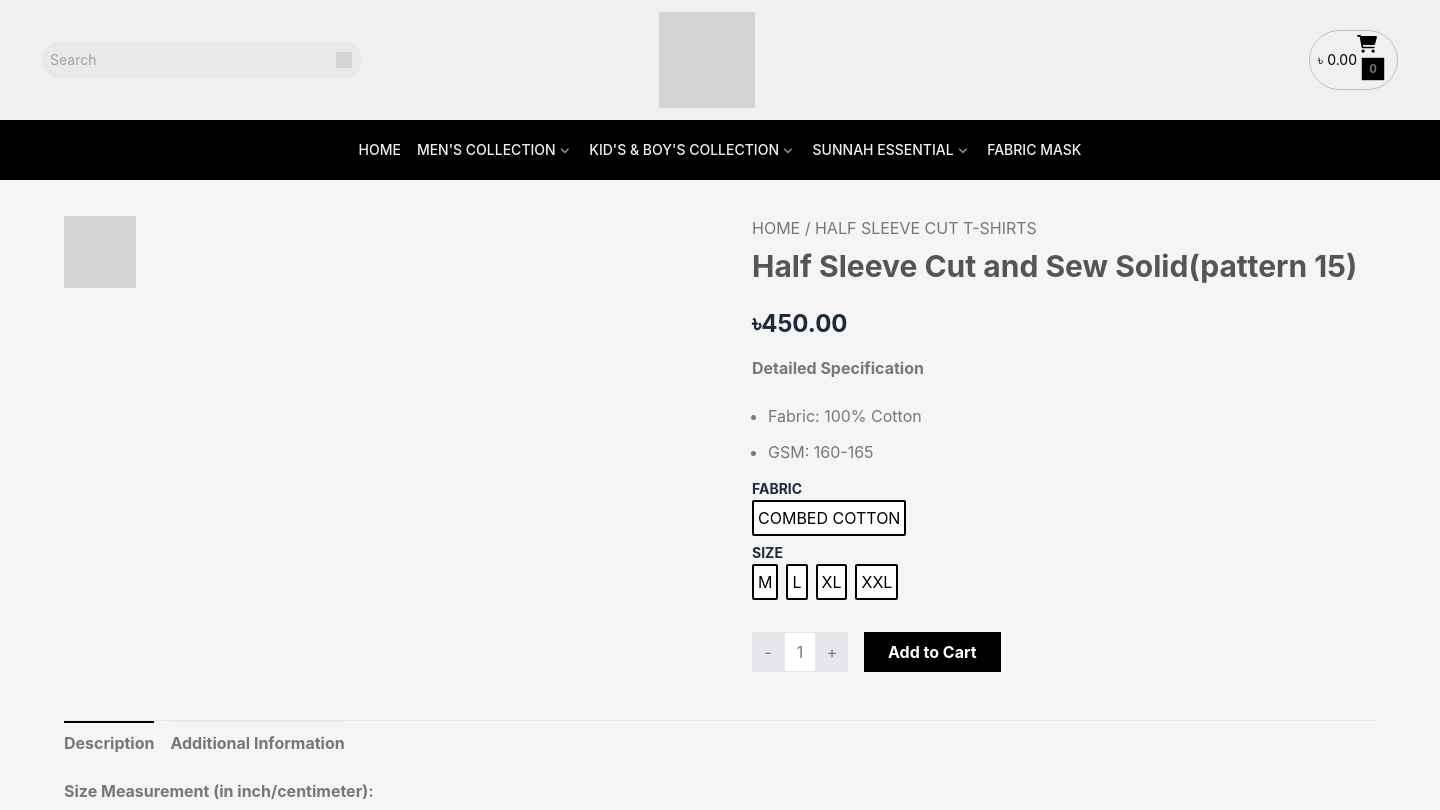
item counter › increment and decrement
Click the button "+".
click(832, 652)  # box [816, 632, 848, 672]
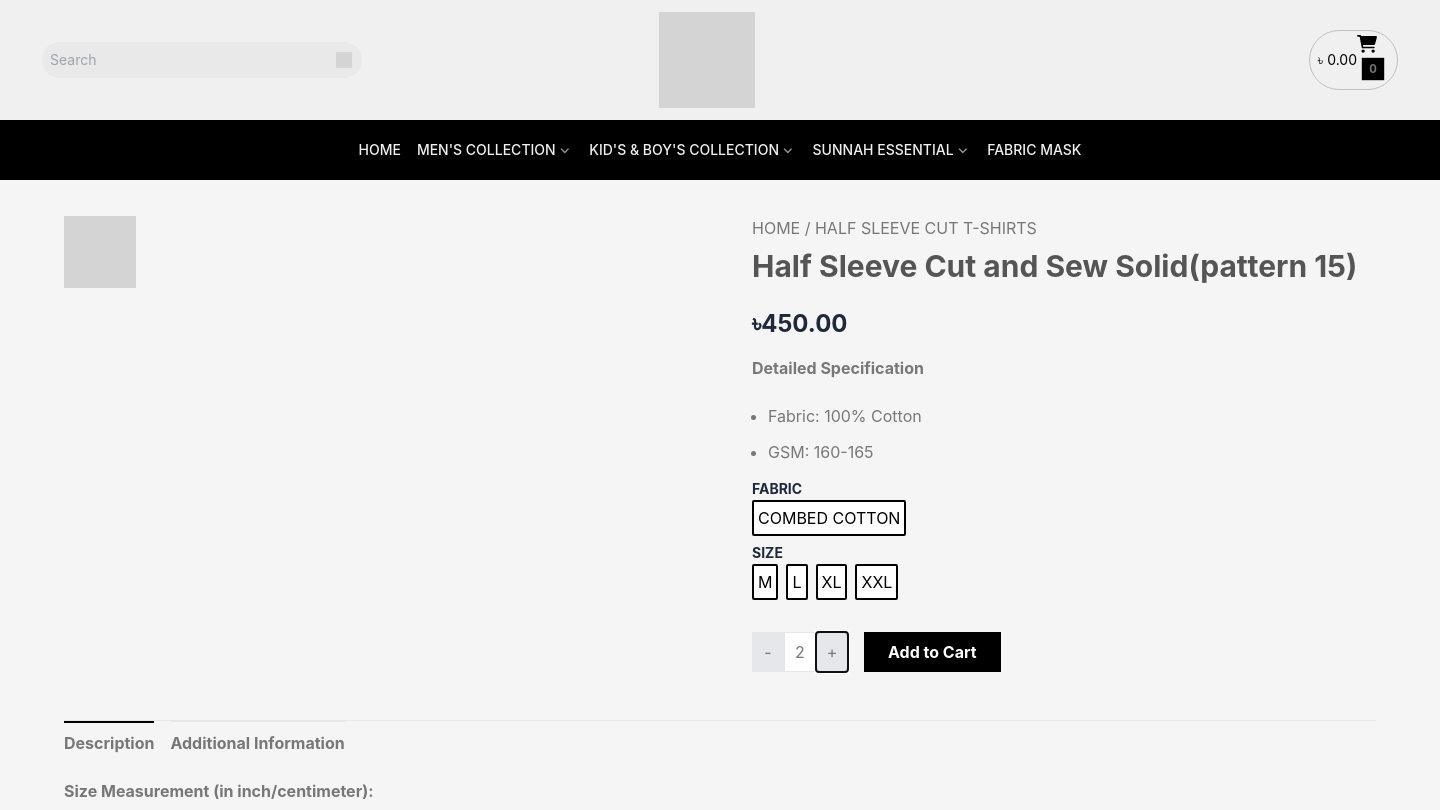
Click the button "+".
click(832, 652)  # box [816, 632, 848, 672]
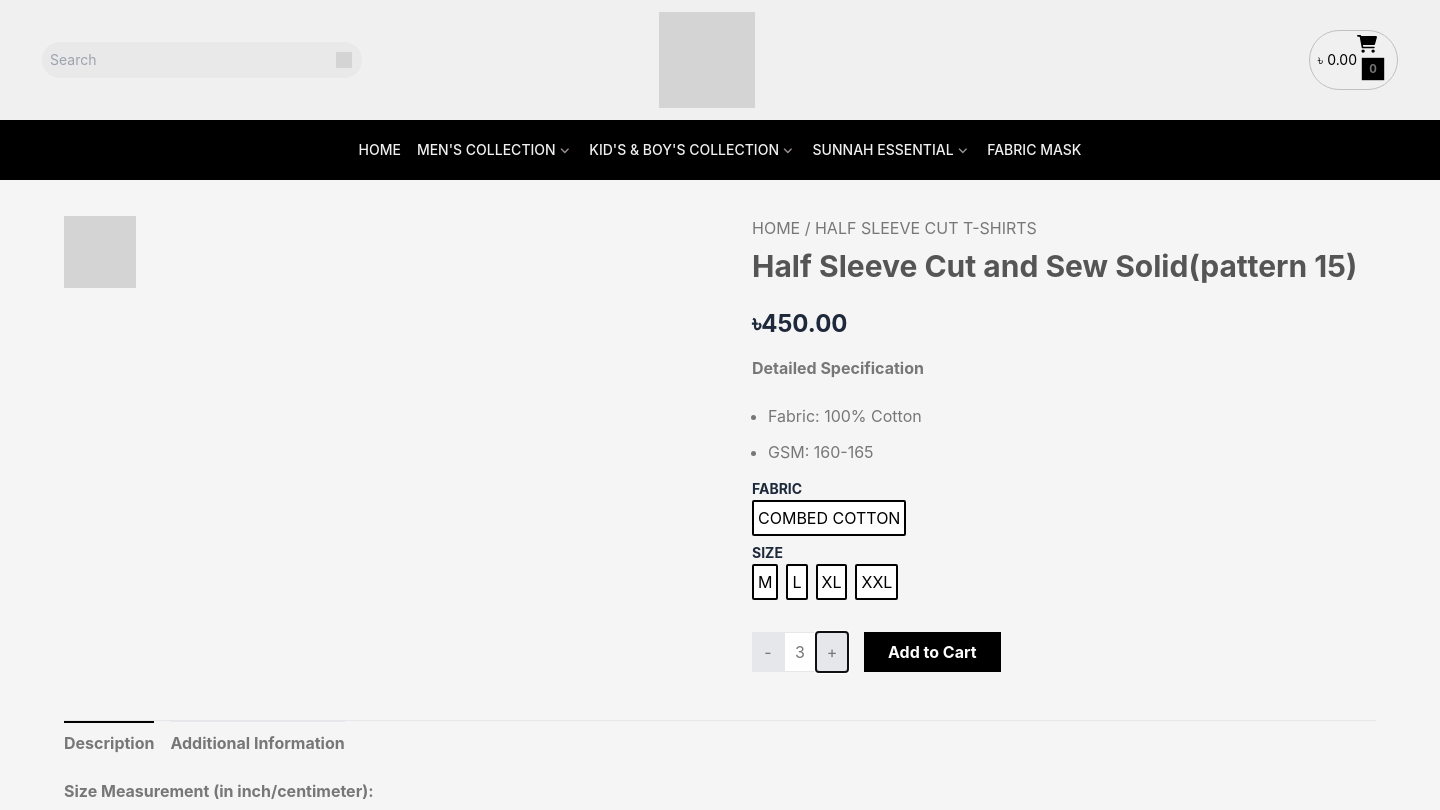
Click the button "+".
click(832, 652)  # box [816, 632, 848, 672]
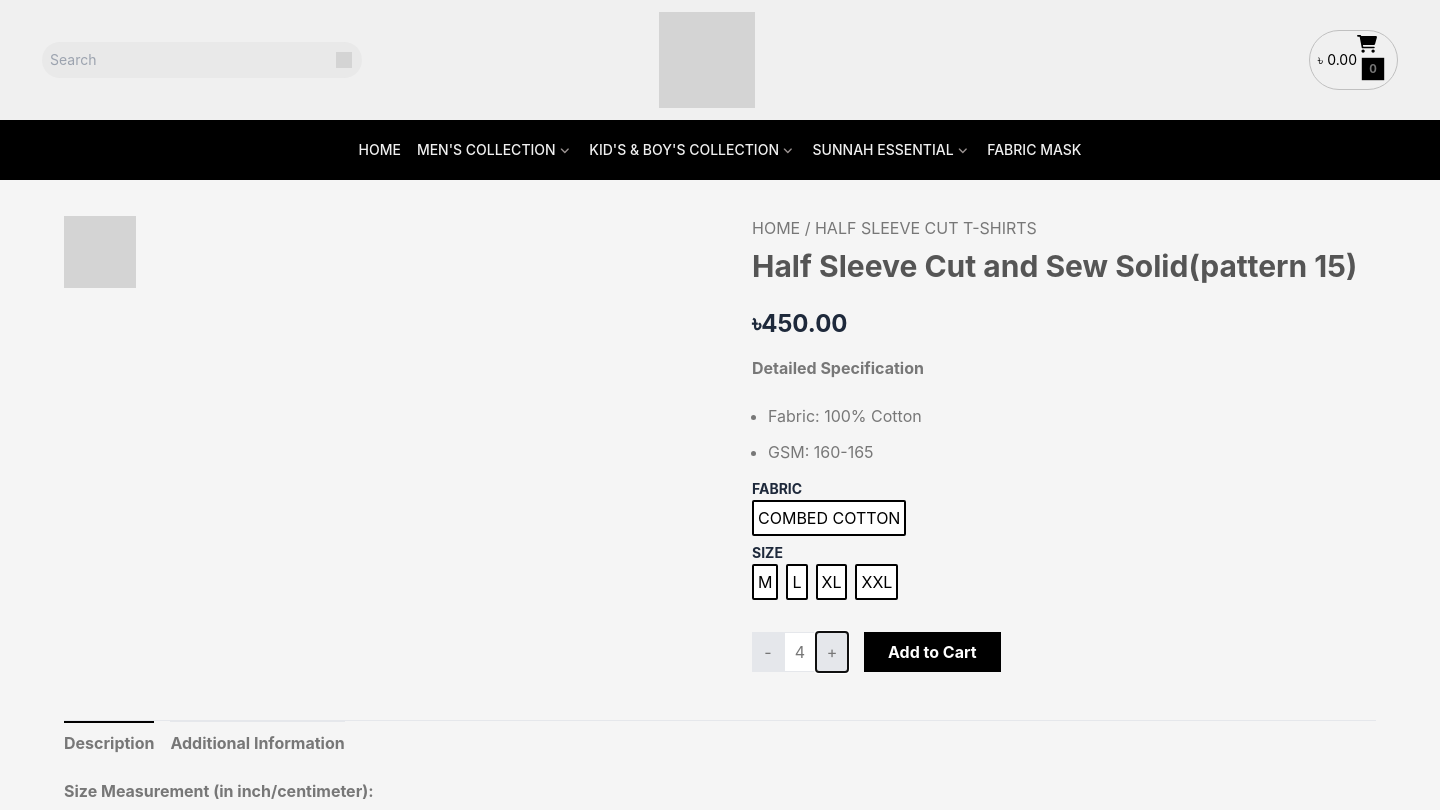
Click the button "-".
click(768, 652)  # box [752, 632, 784, 672]
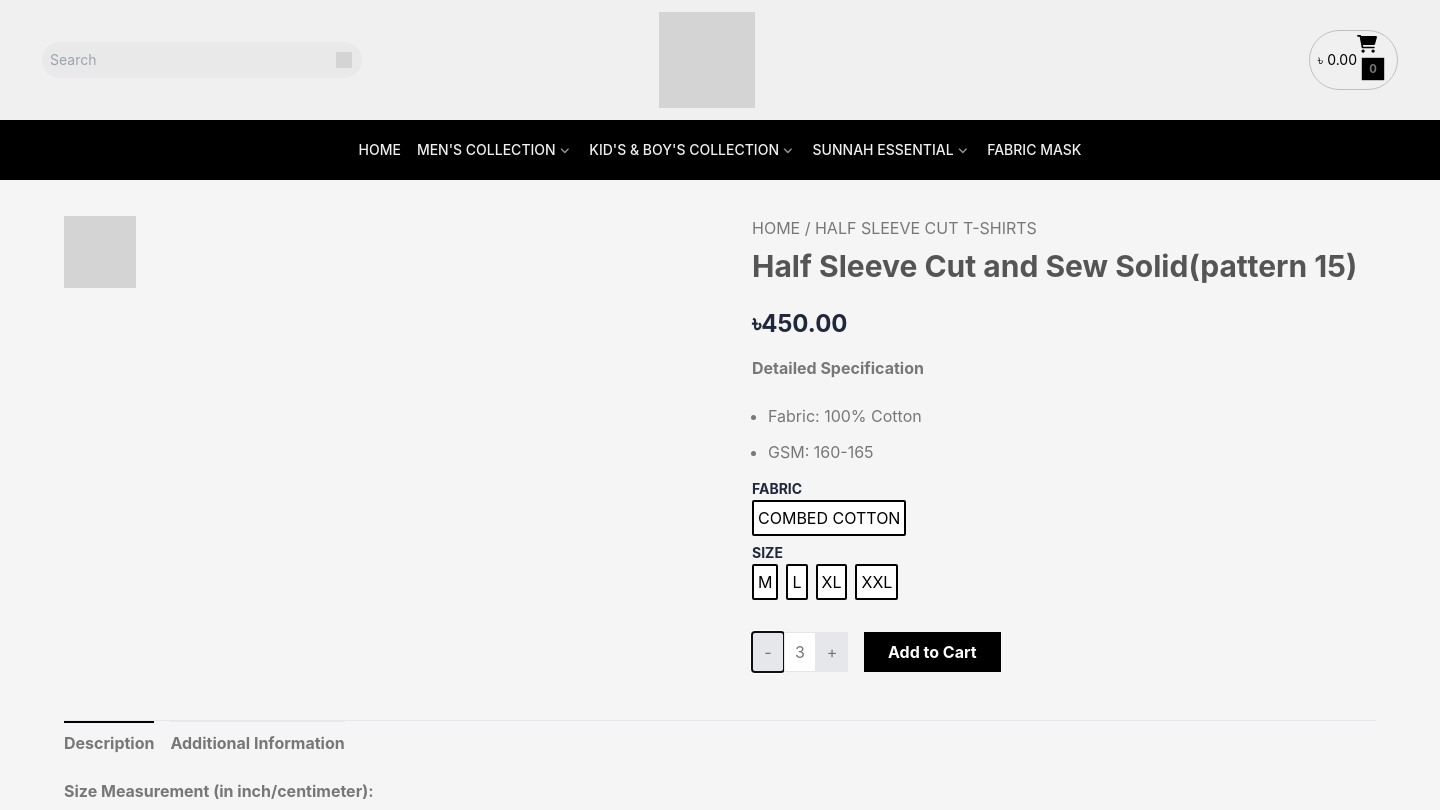
Check: the number field showing "1" holds "3", box [784, 632, 816, 672]
